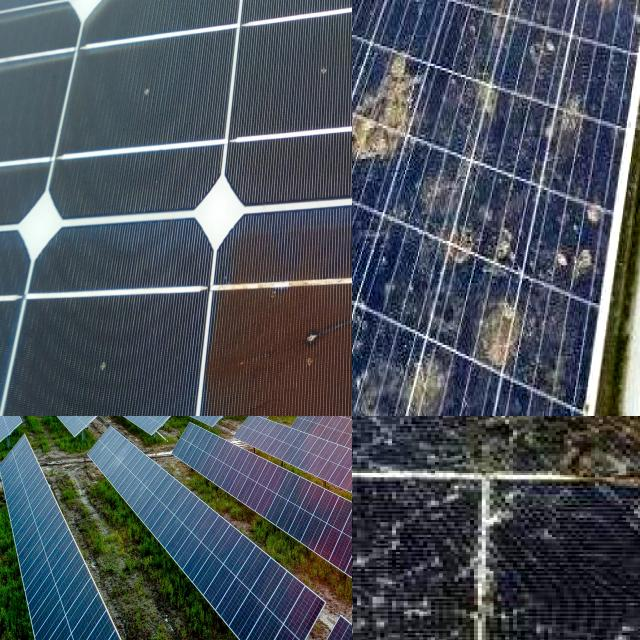bird: (352, 32, 417, 186), (360, 338, 446, 414), (563, 170, 604, 304), (485, 268, 526, 387), (540, 89, 604, 140), (404, 0, 445, 43), (477, 74, 507, 132), (450, 228, 478, 278), (593, 0, 635, 20), (485, 0, 518, 18)
shadow: (352, 416, 640, 571), (205, 216, 352, 416), (352, 416, 640, 503)
